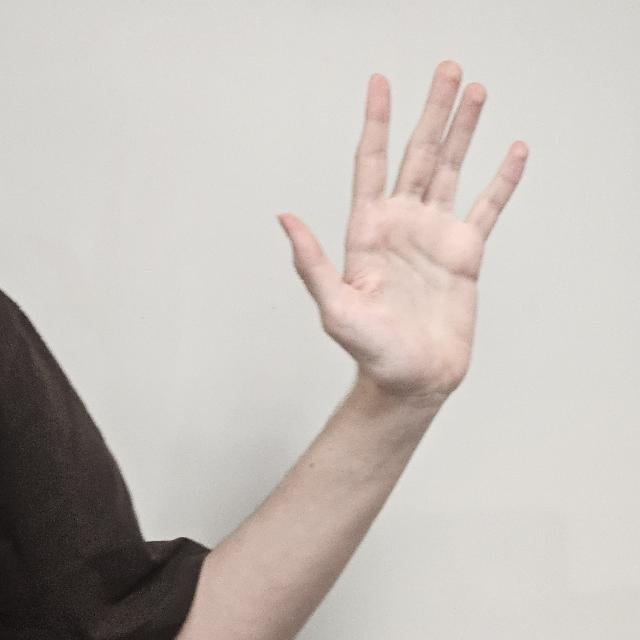X: (277, 59, 533, 429)
